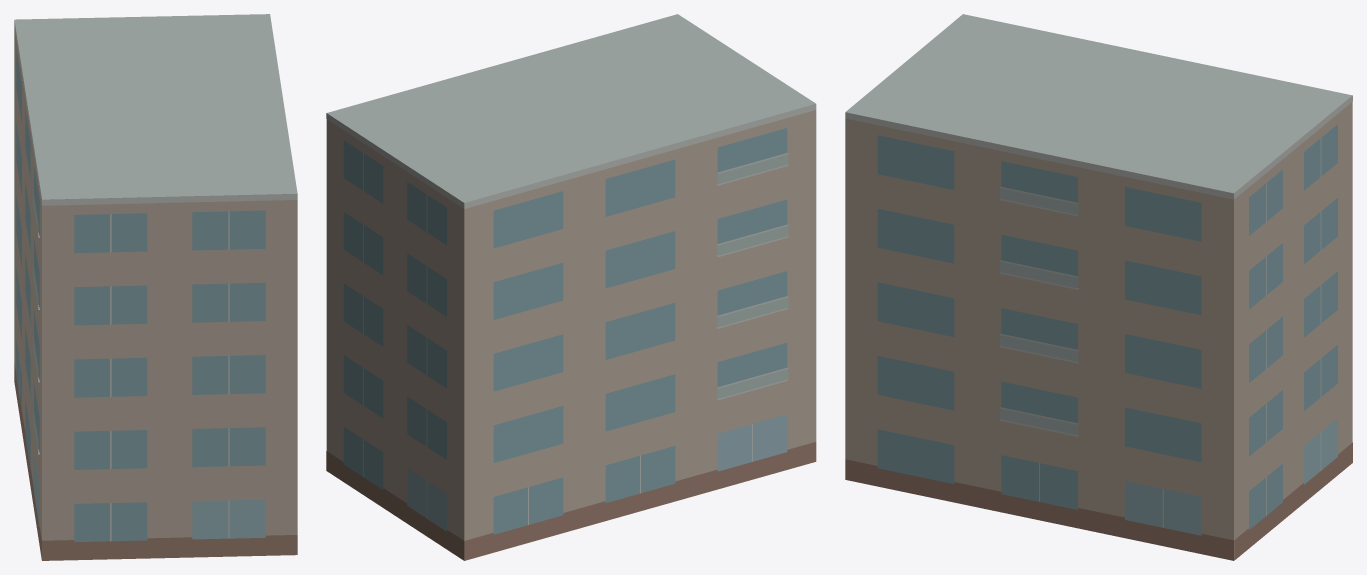
The model's file is survey-upis-32894304.glb.
3 views of the same model, side by side, from view 1: azimuth 30°, elevation 25°; view 2: azimuth 150°, elevation 25°; view 3: azimuth 270°, elevation 25° (orthographic). The views are drawn at different scales.
Visible parts, largest first — view 1: survey-upis-32894304.tmp; view 2: survey-upis-32894304.tmp; view 3: survey-upis-32894304.tmp.
Part boxes in pixels (x1,y1,x2,y2): survey-upis-32894304.tmp: [14, 14, 297, 560]; survey-upis-32894304.tmp: [326, 14, 816, 560]; survey-upis-32894304.tmp: [845, 14, 1352, 560].
Size of the model in its own units: 15.08 by 14.4 by 18.03.
